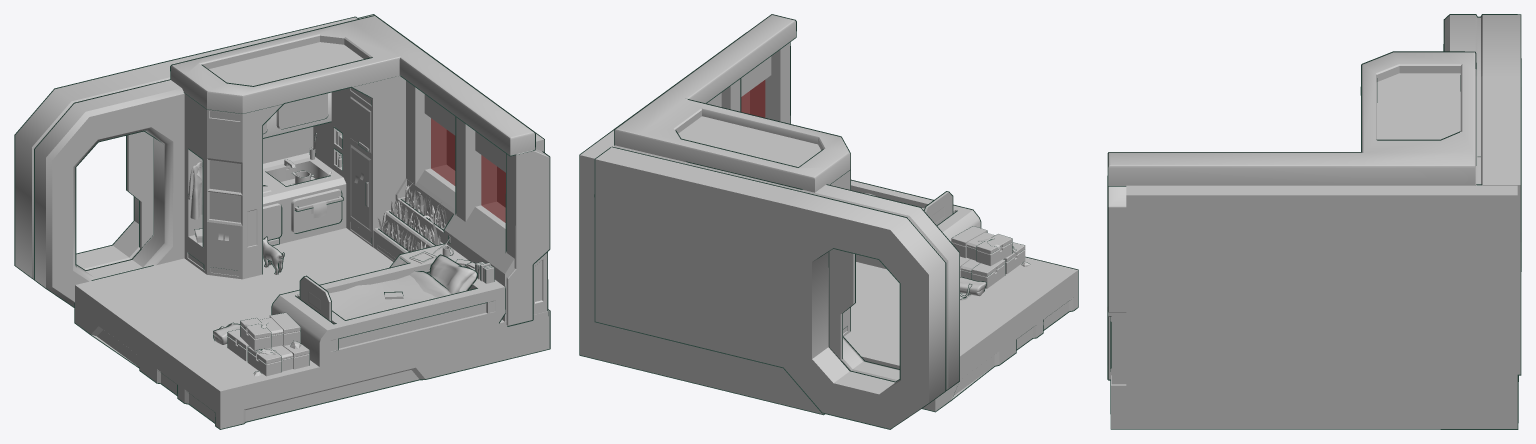
3 views of the same model, side by side, from view 1: azimuth 30°, elevation 25°; view 2: azimuth 150°, elevation 25°; view 3: azimuth 270°, elevation 25° (orthographic). The views are drawn at different scales.
Visible parts, largest first — view 1: Cyber_Room_Vf10_0; view 2: Cyber_Room_Vf10_0; view 3: Cyber_Room_Vf10_0.
Boxes of the visible parts, x1,y1,x2,y2 form: Cyber_Room_Vf10_0: (14, 14, 550, 429); Cyber_Room_Vf10_0: (579, 14, 1078, 429); Cyber_Room_Vf10_0: (1107, 14, 1521, 429).
Bounding box in the file's own units: 10.01 × 5.95 × 8.73.
